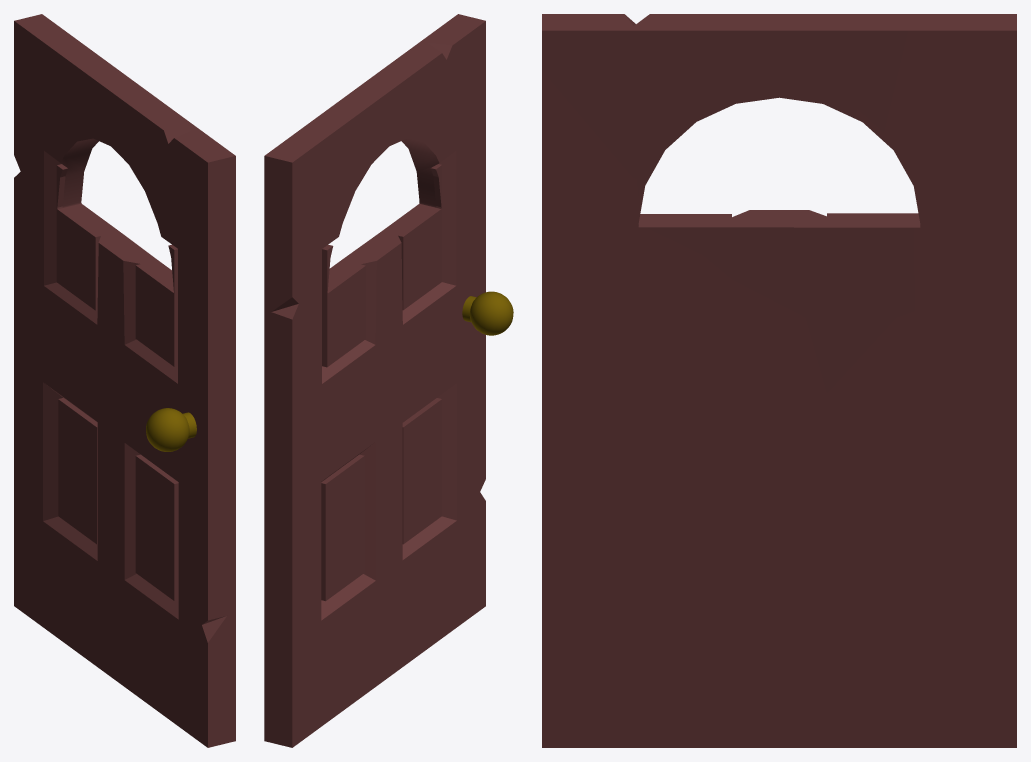
File: WA-door2.fbx
The picture shows the model from 3 angles, left to right: view 1: azimuth 30°, elevation 25°; view 2: azimuth 150°, elevation 25°; view 3: azimuth 270°, elevation 25°; orthographic projection. The views are drawn at different scales.
Visible parts, largest first — view 1: pCube9, pSphere1; view 2: pCube9, pSphere1; view 3: pCube9.
Boxes of the visible parts, x1,y1,x2,y2 form: pCube9: [14, 14, 235, 747]; pSphere1: [146, 408, 189, 451]; pCube9: [264, 14, 485, 747]; pSphere1: [469, 291, 513, 335]; pCube9: [542, 14, 1016, 747].
Bounding box in the file's own units: 1.25 × 10 × 6.
